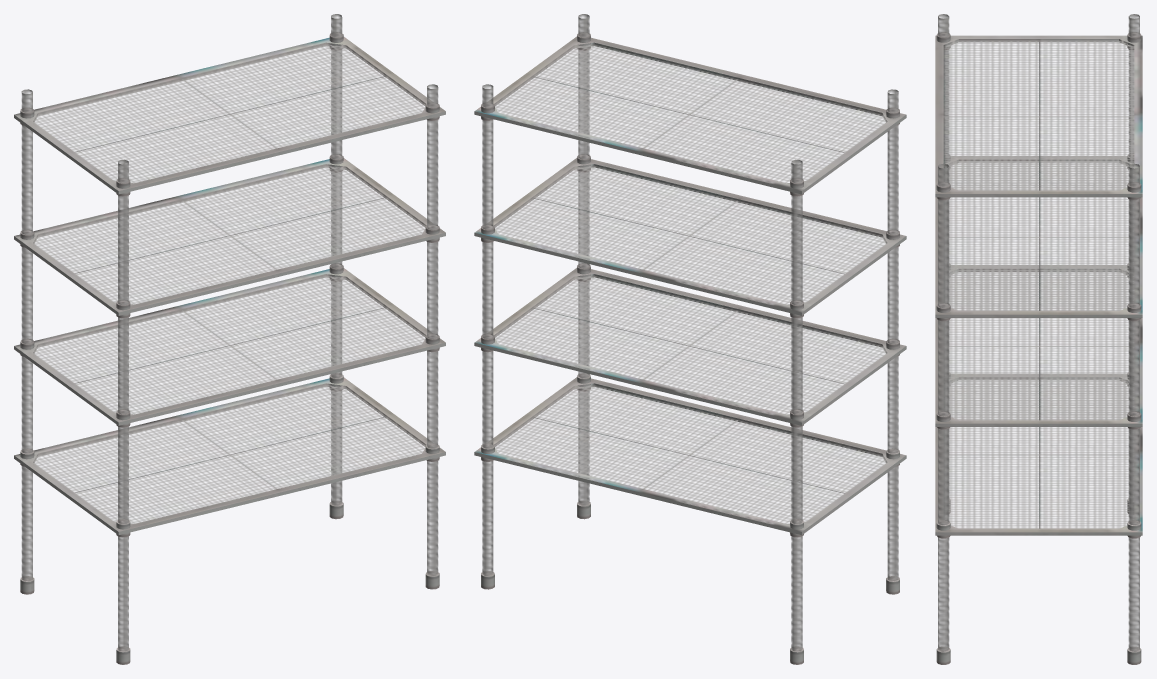
The model's file is ss-wire-shelf.lod0.glb.
The picture shows the model from 3 angles, left to right: view 1: azimuth 30°, elevation 25°; view 2: azimuth 150°, elevation 25°; view 3: azimuth 270°, elevation 25°; orthographic projection.
Visible parts, largest first — view 1: general_store_furniture_big_shelve.001_general_store_furnitu; view 2: general_store_furniture_big_shelve.001_general_store_furnitu; view 3: general_store_furniture_big_shelve.001_general_store_furnitu.
Boxes of the visible parts, x1,y1,x2,y2 form: general_store_furniture_big_shelve.001_general_store_furnitu: (14,14,445,664); general_store_furniture_big_shelve.001_general_store_furnitu: (474,14,906,664); general_store_furniture_big_shelve.001_general_store_furnitu: (935,14,1142,664).
Bounding box in the file's own units: 2.22 × 3.23 × 1.23.
1 material, 1 textured.
